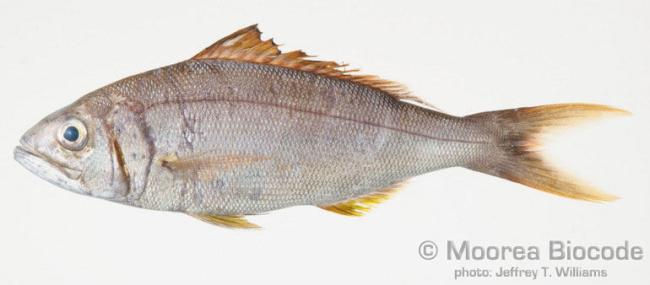fish: (13, 24, 631, 229)
